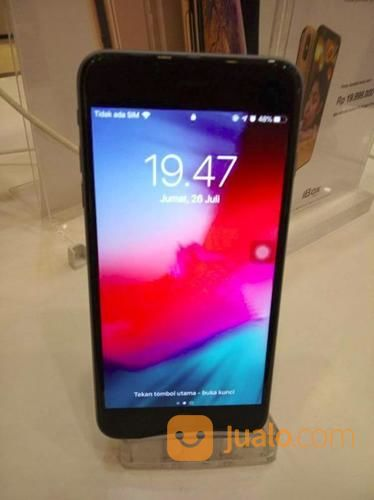Handphone: (72, 47, 309, 448)
